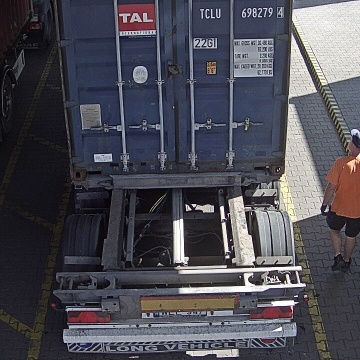serial_id: (200, 7, 284, 18)
